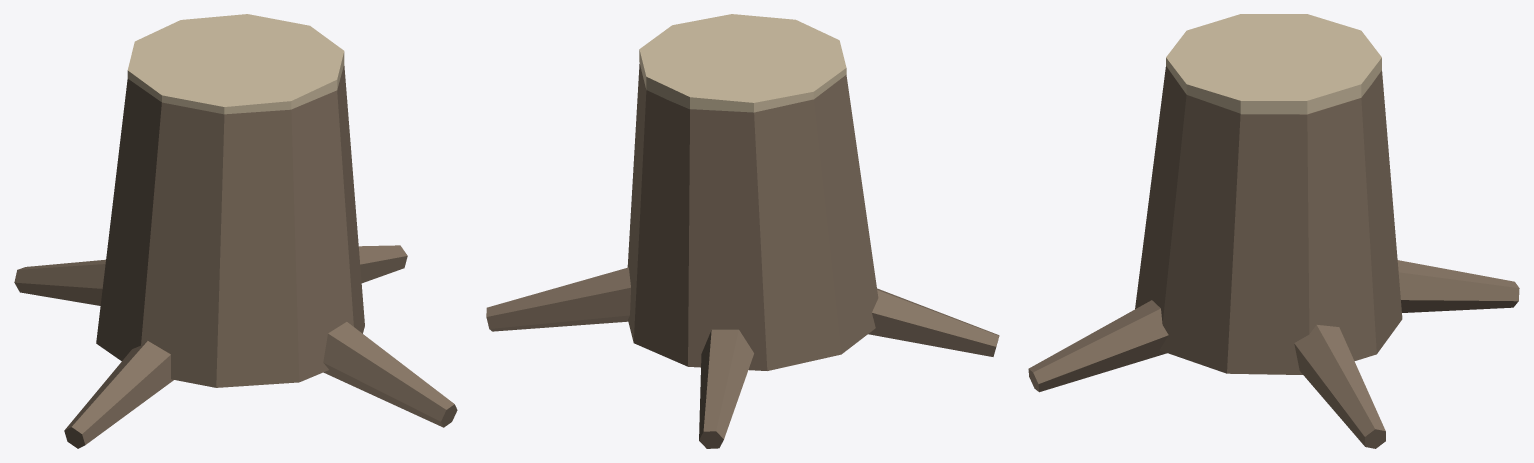
Rendered from stump.glb.
The picture shows the model from 3 angles, left to right: view 1: azimuth 30°, elevation 25°; view 2: azimuth 150°, elevation 25°; view 3: azimuth 270°, elevation 25°; orthographic projection. The views are drawn at different scales.
Parts seen in each view (by area): view 1: stump; view 2: stump; view 3: stump.
Boxes of the visible parts, box(x1,y1,x2,y2) form: stump: box(14, 14, 457, 448); stump: box(486, 14, 999, 448); stump: box(1028, 14, 1519, 448).
Size of the model in its own units: 2.64 by 1.73 by 2.64.
